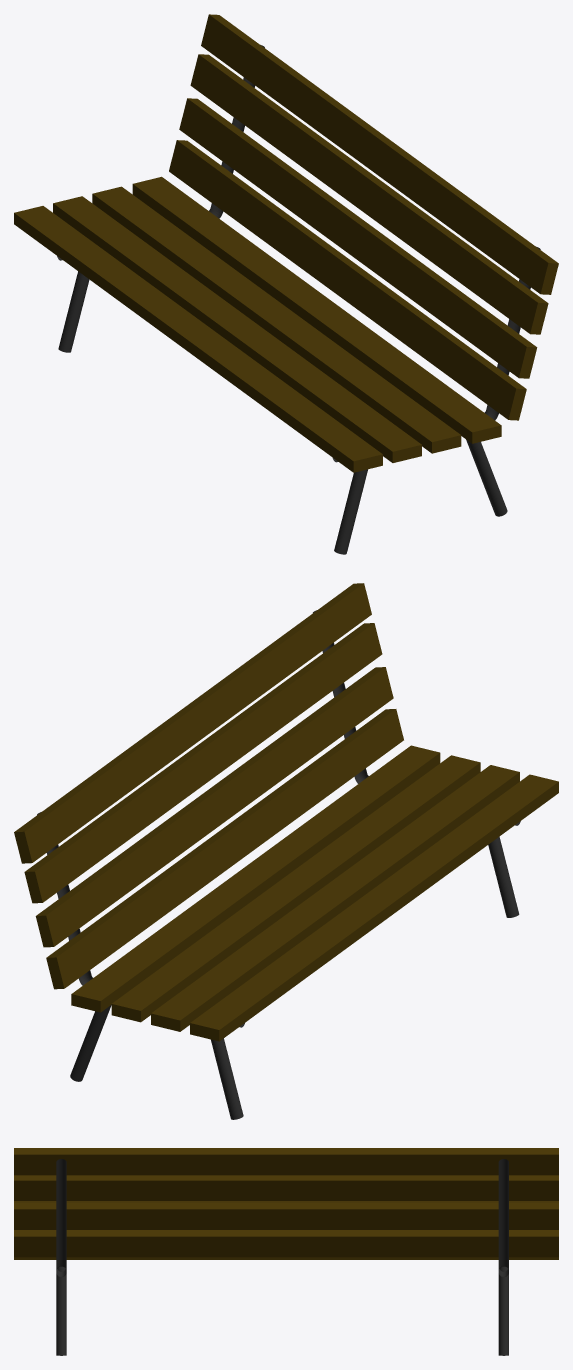
Rendered from bench.glb.
The picture shows the model from 3 angles, top to bottom: view 1: azimuth 30°, elevation 25°; view 2: azimuth 150°, elevation 25°; view 3: azimuth 270°, elevation 25°; orthographic projection. The views are drawn at different scales.
Visible parts, largest first — view 1: Cube.001, Cylinder.002; view 2: Cube.001, Cylinder.002; view 3: Cube.001, Cylinder.002.
Boxes of the visible parts, x1=… form: Cube.001: x1=14, y1=14, x2=558, y2=472; Cylinder.002: x1=57, y1=45, x2=540, y2=554; Cube.001: x1=14, y1=583, x2=558, y2=1041; Cylinder.002: x1=37, y1=610, x2=520, y2=1119; Cube.001: x1=14, y1=1148, x2=558, y2=1259; Cylinder.002: x1=56, y1=1159, x2=508, y2=1355.
Size of the model in its own units: 3.78 by 4.5 by 10.3.
